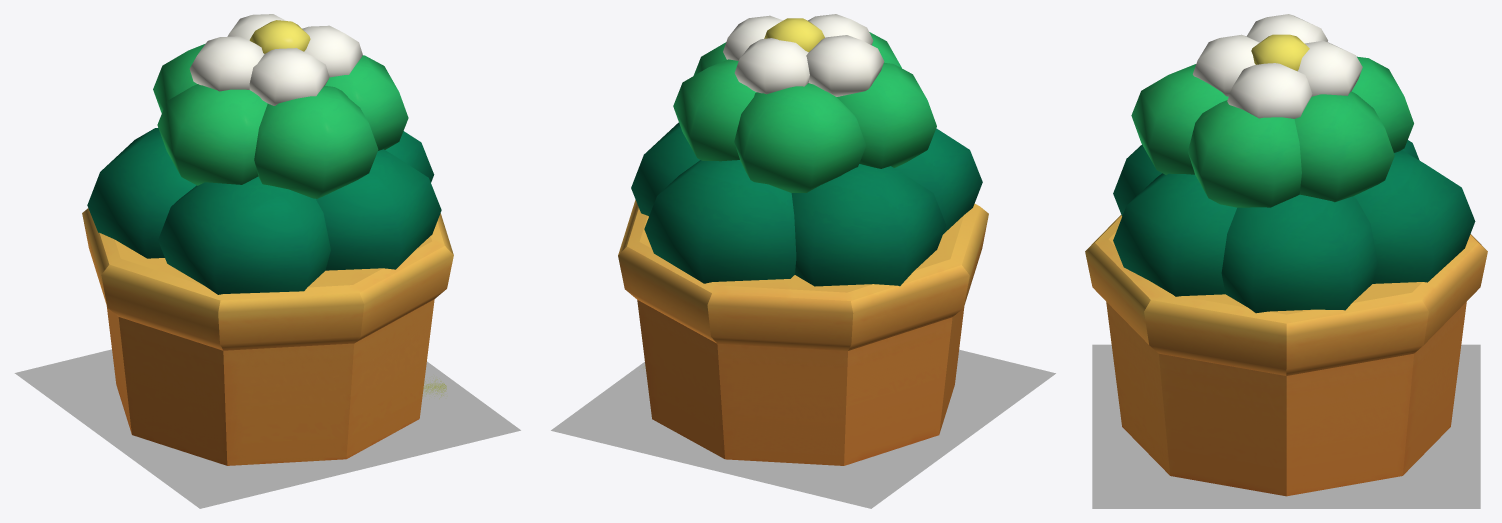
File: FlowerPot.fbx
3 views of the same model, side by side, from view 1: azimuth 30°, elevation 25°; view 2: azimuth 150°, elevation 25°; view 3: azimuth 270°, elevation 25° (orthographic). The views are drawn at different scales.
Visible parts, largest first — view 1: FlowerPot, BottomLeaves, UpperLeaves, FlowerPotGrid, FlowerinPot; view 2: FlowerPot, BottomLeaves, UpperLeaves, FlowerPotGrid, FlowerinPot; view 3: FlowerPot, BottomLeaves, UpperLeaves, FlowerPotGrid, FlowerinPot.
Part boxes in pixels (bbox=[...]): FlowerPot: bbox=[82, 208, 453, 465]; BottomLeaves: bbox=[87, 128, 441, 294]; UpperLeaves: bbox=[153, 43, 408, 198]; FlowerPotGrid: bbox=[14, 349, 520, 508]; FlowerinPot: bbox=[189, 14, 362, 105]; FlowerPot: bbox=[618, 200, 988, 465]; BottomLeaves: bbox=[631, 122, 982, 286]; UpperLeaves: bbox=[673, 32, 936, 192]; FlowerPotGrid: bbox=[551, 349, 1055, 508]; FlowerinPot: bbox=[723, 14, 884, 96]; FlowerPot: bbox=[1085, 215, 1487, 496]; BottomLeaves: bbox=[1113, 140, 1475, 313]; UpperLeaves: bbox=[1131, 56, 1413, 207]; FlowerPotGrid: bbox=[1092, 344, 1480, 508]; FlowerinPot: bbox=[1193, 14, 1362, 118].
Size of the model in its own units: 104 by 112 by 104.
